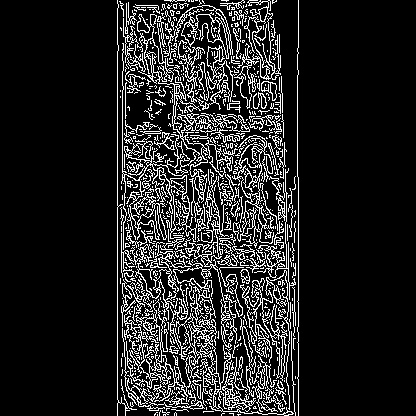buddha-sitting: (31, 98, 203, 192)
